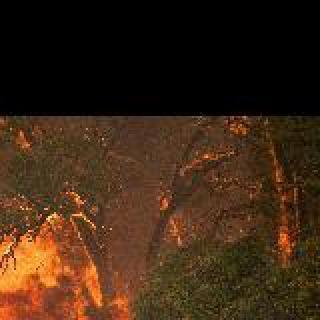fire: (0, 116, 254, 320)
